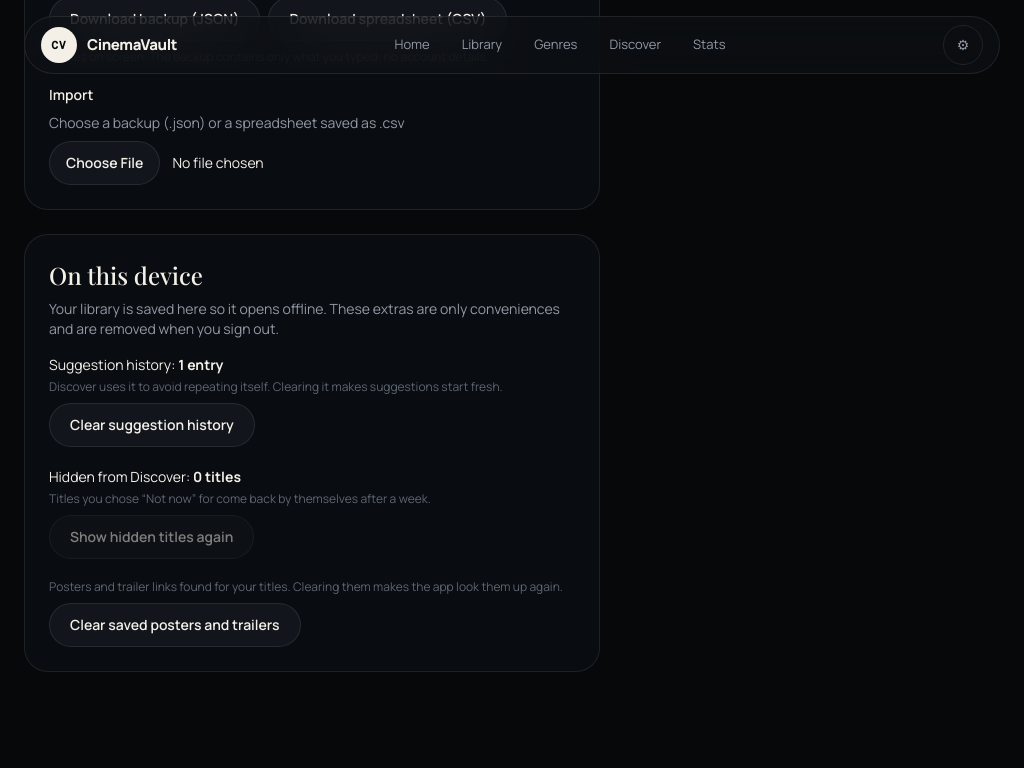
Scenario: on this device › clears saved posters and trailers without touching the history
(page scrolled)
Click the button "Clear saved posters and trailers" at (175, 625), box [49,603,300,647]
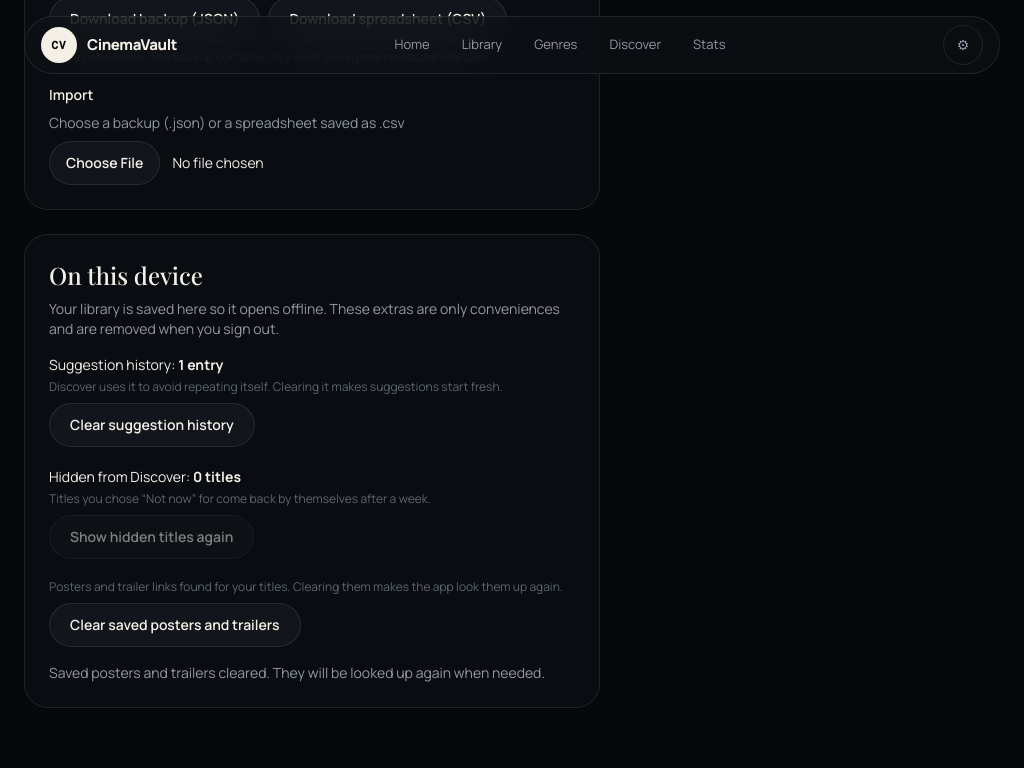
Check: the text "Saved posters and trailers cleared. They will be looked up again when needed." is shown, box [49,663,575,683]
